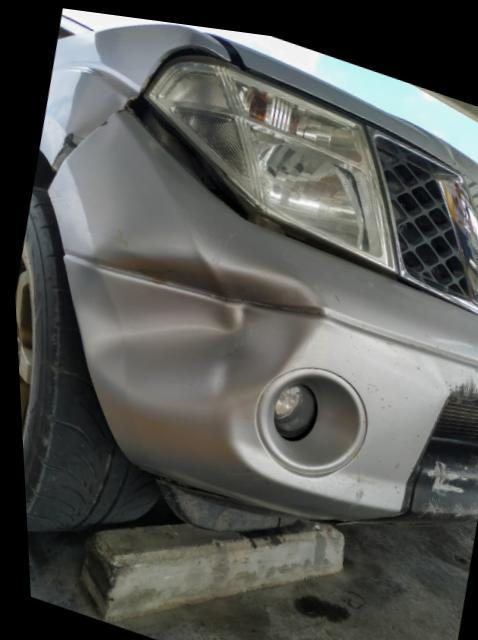dent: (78, 243, 321, 402)
dislocated part: (37, 97, 478, 511)
scratch: (422, 446, 478, 485), (445, 364, 478, 390)
